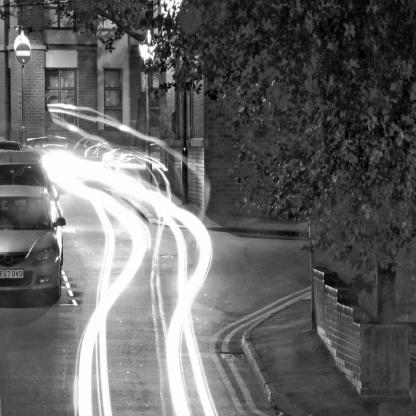Car: (0, 185, 66, 308), (0, 144, 56, 196), (0, 140, 26, 151)
